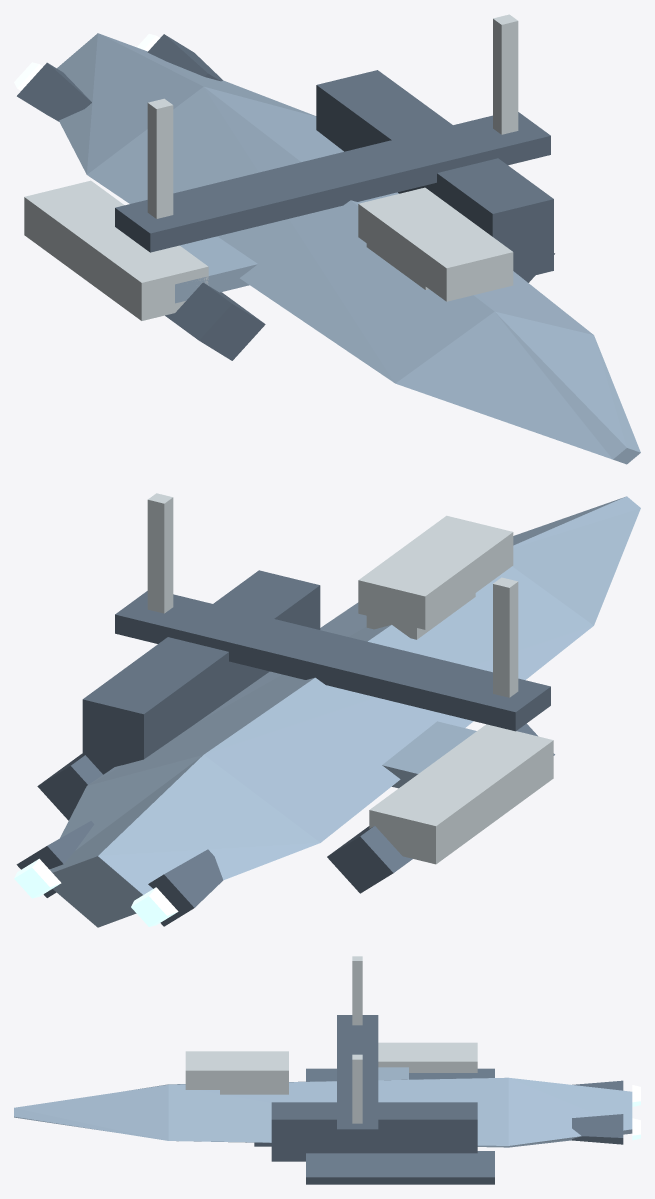
3 renders of one model, top to bottom at view 1: azimuth 30°, elevation 25°; view 2: azimuth 150°, elevation 25°; view 3: azimuth 270°, elevation 25°, orthographic. The views are drawn at different scales.
Size of the model in its own units: 3.42 by 1.92 by 7.81.
